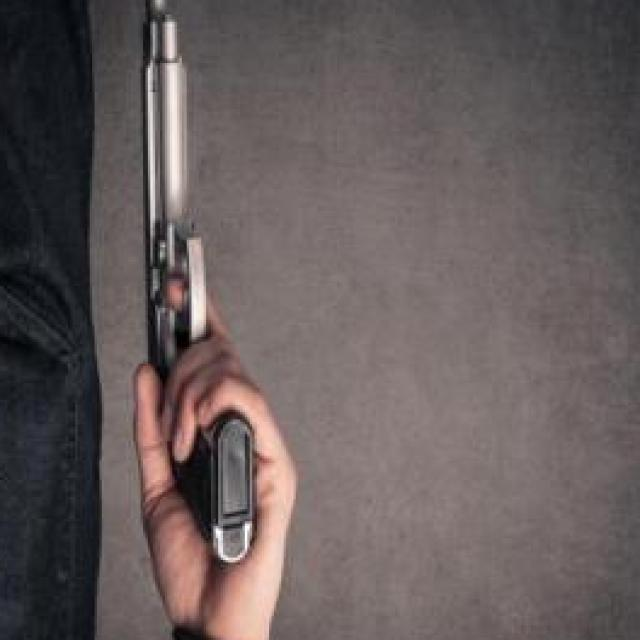pistol: (140, 0, 254, 563)
